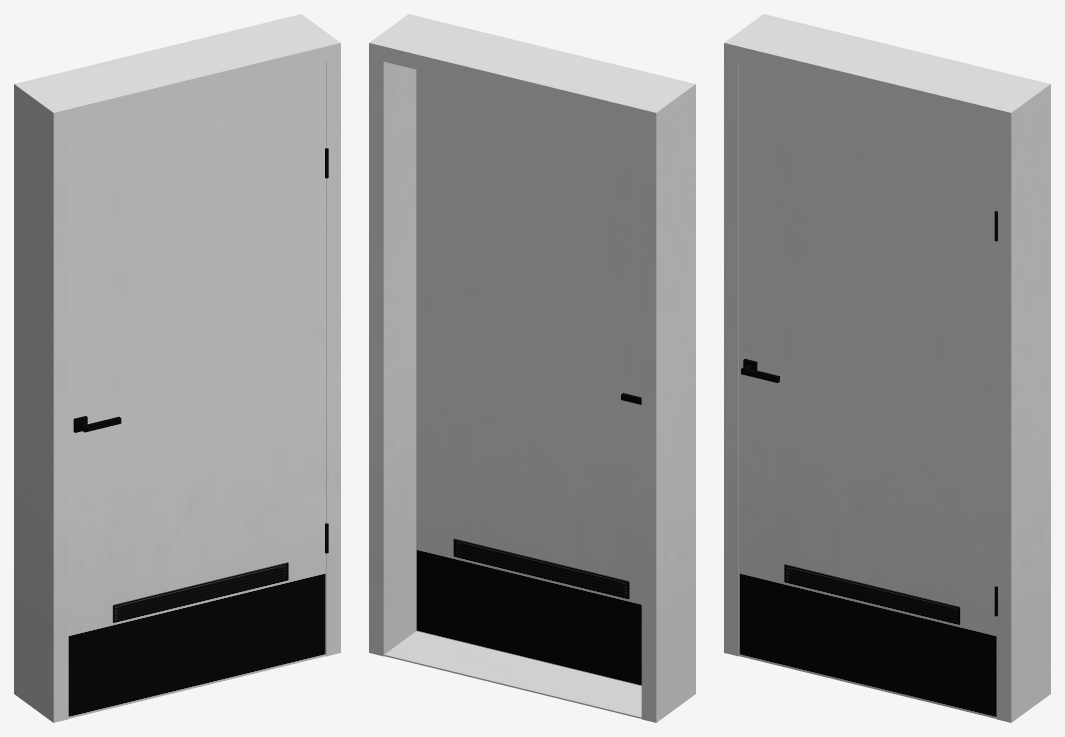
File: DoorC.fbx
3 renders of one model, left to right at view 1: azimuth 30°, elevation 25°; view 2: azimuth 150°, elevation 25°; view 3: azimuth 330°, elevation 25°, orthographic.
Parts seen in each view (by area): view 1: Door, DoorC; view 2: Door, DoorC; view 3: Door, DoorC.
Part boxes in pixels (left/top/right/bottom): Door: left=68, top=62, right=325, bottom=717; DoorC: left=14, top=14, right=340, bottom=722; Door: left=416, top=69, right=641, bottom=685; DoorC: left=369, top=14, right=695, bottom=722; Door: left=739, top=62, right=996, bottom=717; DoorC: left=724, top=14, right=1050, bottom=722.
Size of the model in its own units: 105 by 212 by 29.36.
